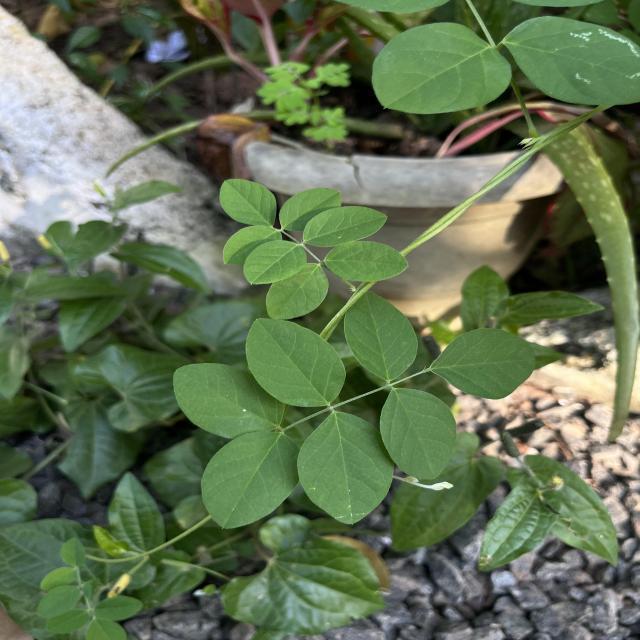Clitoria ternatea: (296, 410, 395, 526), (200, 430, 301, 530), (244, 317, 347, 408), (172, 362, 286, 441), (428, 327, 536, 400), (379, 386, 457, 481), (343, 290, 419, 382), (302, 205, 389, 248), (266, 262, 330, 320), (323, 240, 409, 282), (242, 240, 308, 286), (218, 178, 278, 228)
